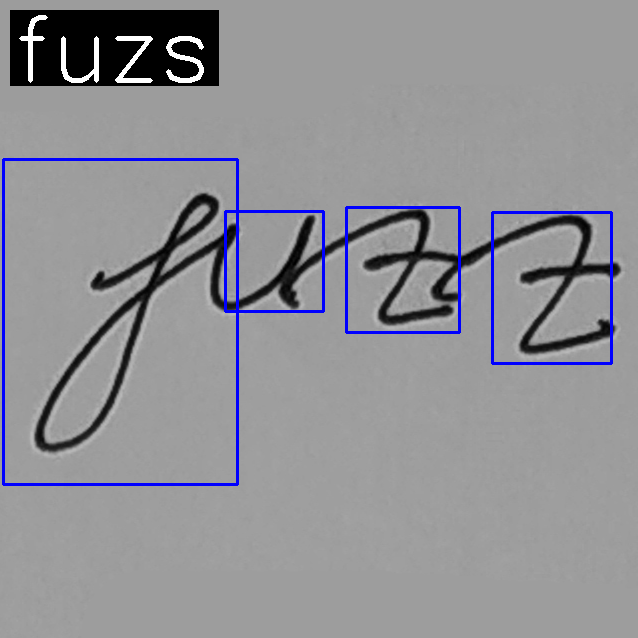f: (33, 191, 222, 455)
u: (206, 210, 319, 314)
z: (506, 210, 623, 357), (357, 204, 463, 327)
